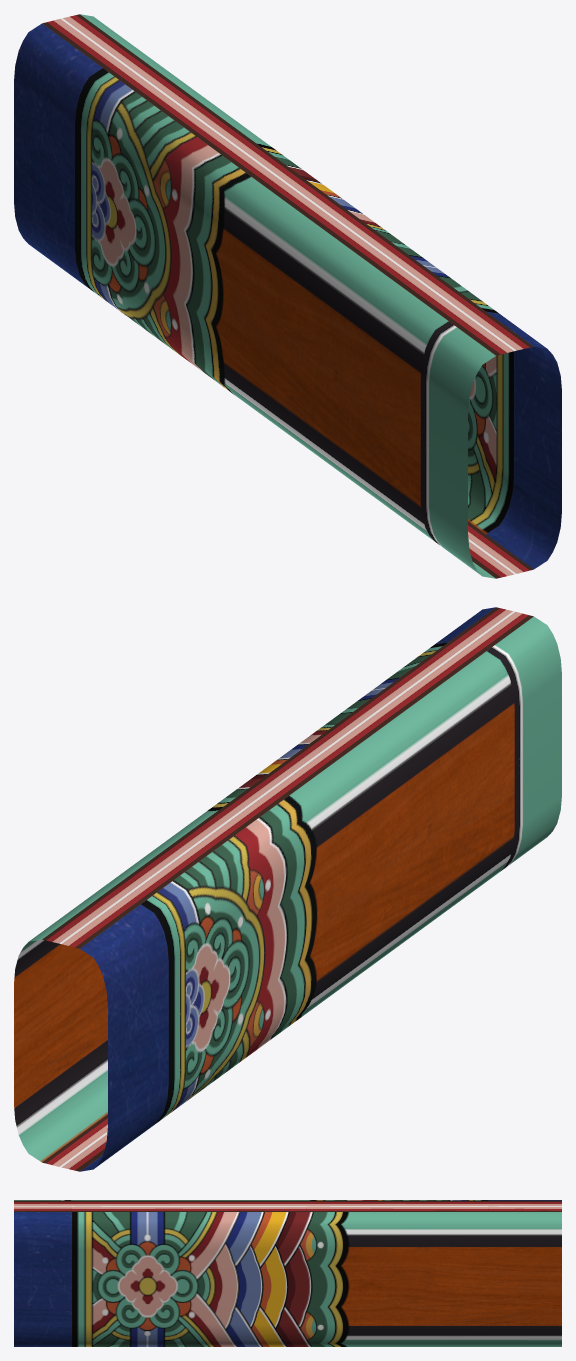
Rendered from SM_ChangBang10I.fbx.
3 renders of one model, top to bottom at view 1: azimuth 30°, elevation 25°; view 2: azimuth 150°, elevation 25°; view 3: azimuth 270°, elevation 25°, orthographic. The views are drawn at different scales.
Parts seen in each view (by area): view 1: SM_ChangBang10I; view 2: SM_ChangBang10I; view 3: SM_ChangBang10I.
Part boxes in pixels (x1,y1,x2,y2): SM_ChangBang10I: (14,14,561,578); SM_ChangBang10I: (14,607,561,1171); SM_ChangBang10I: (14,1200,561,1346).
Size of the model in its own units: 16.7 by 140 by 37.99.
1 material, 1 textured.
